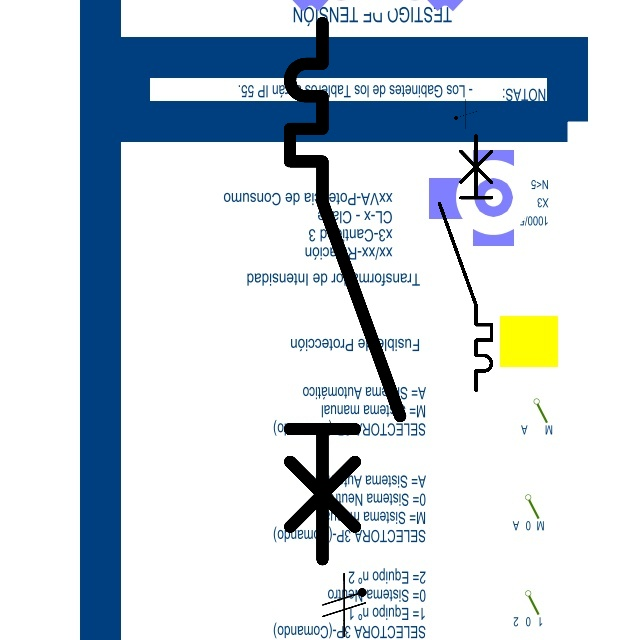interruptor_termomagnetico: (276, 9, 414, 573), (433, 129, 498, 397)
